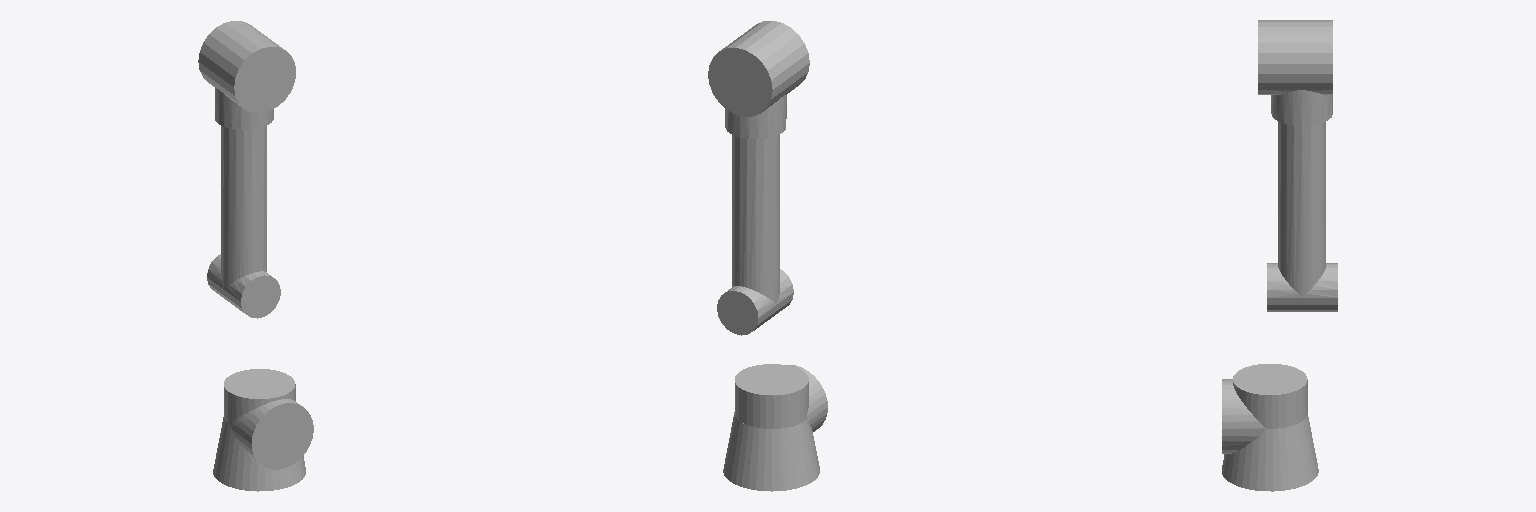
URDF robot description (GEN3_URDF_V12):
<robot name="GEN3_URDF_V12" version="1.0">
  <link name="world">
  </link>
  <joint name="Fix_world" type="fixed">
    <parent link="world" />
    <child link="Base_Link" />
  </joint>
  <link name="Base_Link">
    <inertial>
      <origin xyz="-0.000648 -0.000166 0.084487" rpy="0 0 0" />
      <mass value="1.697" />
      <inertia ixx="0.004622" ixy="9E-06" ixz="6E-05" iyy="0.004495" iyz="9E-06" izz="0.002079" />
    </inertial>
    <visual>
      <origin xyz="0 0 0" rpy="0 0 0" />
      <geometry>
        <mesh filename="kinova_gen3_7dof/base_link.STL" />
      </geometry>
      <material name="">
        <color rgba="0.75294 0.75294 0.75294 1" />
      </material>
    </visual>
    <collision>
      <origin xyz="0 0 0" rpy="0 0 0" />
      <geometry>
        <mesh filename="kinova_gen3_7dof/base_link.STL" />
      </geometry>
    </collision>
  </link>
  <link name="Shoulder_Link">
    <inertial>
      <origin xyz="-2.3E-05 -0.010364 -0.07336" rpy="0 0 0" />
      <mass value="1.3773" />
      <inertia ixx="0.00457" ixy="1E-06" ixz="2E-06" iyy="0.004831" iyz="0.000448" izz="0.001409" />
    </inertial>
    <visual>
      <origin xyz="0 0 0" rpy="0 0 0" />
      <geometry>
        <mesh filename="kinova_gen3_7dof/shoulder_link.STL" />
      </geometry>
      <material name="">
        <color rgba="0.75294 0.75294 0.75294 1" />
      </material>
    </visual>
    <collision>
      <origin xyz="0 0 0" rpy="0 0 0" />
      <geometry>
        <mesh filename="kinova_gen3_7dof/shoulder_link.STL" />
      </geometry>
    </collision>
  </link>
  <joint name="Actuator1" type="continuous">
    <origin xyz="0 0 0.15643" rpy="3.1416 2.7629E-18 -4.9305E-36" />
    <parent link="Base_Link" />
    <child link="Shoulder_Link" />
    <axis xyz="0 0 1" />
    <limit lower="-1000" upper="1000" effort="39" velocity="0.8727" />
  </joint>
  <link name="HalfArm1_Link">
    <inertial>
      <origin xyz="-4.4E-05 -0.09958 -0.013278" rpy="0 0 0" />
      <mass value="1.1636" />
      <inertia ixx="0.011088" ixy="5E-06" ixz="0" iyy="0.001072" iyz="-0.000691" izz="0.011255" />
    </inertial>
    <visual>
      <origin xyz="0 0 0" rpy="0 0 0" />
      <geometry>
        <mesh filename="kinova_gen3_7dof/half_arm_1_link.STL" />
      </geometry>
      <material name="">
        <color rgba="0.75294 0.75294 0.75294 1" />
      </material>
    </visual>
    <collision>
      <origin xyz="0 0 0" rpy="0 0 0" />
      <geometry>
        <mesh filename="kinova_gen3_7dof/half_arm_1_link.STL" />
      </geometry>
    </collision>
  </link>
  <joint name="Actuator2" type="revolute">
    <origin xyz="0 0.005375 -0.12838" rpy="1.5708 2.1343E-17 -1.1102E-16" />
    <parent link="Shoulder_Link" />
    <child link="HalfArm1_Link" />
    <axis xyz="0 0 1" />
    <limit lower="-2.41" upper="2.41" effort="39" velocity="0.8727" />
  </joint>
  <link name="HalfArm2_Link">
    <inertial>
      <origin xyz="-4.4E-05 -0.006641 -0.117892" rpy="0 0 0" />
      <mass value="1.1636" />
      <inertia ixx="0.010932" ixy="0" ixz="-7E-06" iyy="0.011127" iyz="0.000606" izz="0.001043" />
    </inertial>
    <visual>
      <origin xyz="0 0 0" rpy="0 0 0" />
      <geometry>
        <mesh filename="kinova_gen3_7dof/half_arm_2_link.STL" />
      </geometry>
      <material name="">
        <color rgba="0.75294 0.75294 0.75294 1" />
      </material>
    </visual>
    <collision>
      <origin xyz="0 0 0" rpy="0 0 0" />
      <geometry>
        <mesh filename="kinova_gen3_7dof/half_arm_2_link.STL" />
      </geometry>
    </collision>
  </link>
  <joint name="Actuator3" type="continuous">
    <origin xyz="0 -0.21038 -0.006375" rpy="-1.5708 1.2326E-32 -2.9122E-16" />
    <parent link="HalfArm1_Link" />
    <child link="HalfArm2_Link" />
    <axis xyz="0 0 1" />
    <limit lower="-1000" upper="1000" effort="39" velocity="0.8727" />
  </joint>
  <link name="ForeArm_Link">
    <inertial>
      <origin xyz="-1.8E-05 -0.075478 -0.015006" rpy="0 0 0" />
      <mass value="0.9302" />
      <inertia ixx="0.008147" ixy="-1E-06" ixz="0" iyy="0.000631" iyz="-0.0005" izz="0.008316" />
    </inertial>
    <visual>
      <origin xyz="0 0 0" rpy="0 0 0" />
      <geometry>
        <mesh filename="kinova_gen3_7dof/forearm_link.STL" />
      </geometry>
      <material name="">
        <color rgba="0.75294 0.75294 0.75294 1" />
      </material>
    </visual>
    <collision>
      <origin xyz="0 0 0" rpy="0 0 0" />
      <geometry>
        <mesh filename="kinova_gen3_7dof/forearm_link.STL" />
      </geometry>
    </collision>
  </link>
  <joint name="Actuator4" type="revolute">
    <origin xyz="0 0.006375 -0.21038" rpy="1.5708 -6.6954E-17 -1.6653E-16" />
    <parent link="HalfArm2_Link" />
    <child link="ForeArm_Link" />
    <axis xyz="0 0 1" />
    <limit lower="-2.66" upper="2.66" effort="39" velocity="0.8727" />
  </joint>
  <link name="SphericalWrist1_Link">
    <inertial>
      <origin xyz="1E-06 -0.009432 -0.063883" rpy="0 0 0" />
      <mass value="0.6781" />
      <inertia ixx="0.001596" ixy="0" ixz="0" iyy="0.001607" iyz="0.000256" izz="0.000399" />
    </inertial>
    <visual>
      <origin xyz="0 0 0" rpy="0 0 0" />
      <geometry>
        <mesh filename="kinova_gen3_7dof/spherical_wrist_1_link.STL" />
      </geometry>
      <material name="">
        <color rgba="0.75294 0.75294 0.75294 1" />
      </material>
    </visual>
    <collision>
      <origin xyz="0 0 0" rpy="0 0 0" />
      <geometry>
        <mesh filename="kinova_gen3_7dof/spherical_wrist_1_link.STL" />
      </geometry>
    </collision>
  </link>
  <joint name="Actuator5" type="continuous">
    <origin xyz="0 -0.20843 -0.006375" rpy="-1.5708 2.2204E-16 -6.373E-17" />
    <parent link="ForeArm_Link" />
    <child link="SphericalWrist1_Link" />
    <axis xyz="0 0 1" />
    <limit lower="-1000" upper="1000" effort="9" velocity="0.8727" />
  </joint>
  <link name="SphericalWrist2_Link">
    <inertial>
      <origin xyz="1E-06 -0.045483 -0.00965" rpy="0 0 0" />
      <mass value="0.6781" />
      <inertia ixx="0.001641" ixy="0" ixz="0" iyy="0.00041" iyz="-0.000278" izz="0.001641" />
    </inertial>
    <visual>
      <origin xyz="0 0 0" rpy="0 0 0" />
      <geometry>
        <mesh filename="kinova_gen3_7dof/spherical_wrist_2_link.STL" />
      </geometry>
      <material name="">
        <color rgba="0.75294 0.75294 0.75294 1" />
      </material>
    </visual>
    <collision>
      <origin xyz="0 0 0" rpy="0 0 0" />
      <geometry>
        <mesh filename="kinova_gen3_7dof/spherical_wrist_2_link.STL" />
      </geometry>
    </collision>
  </link>
  <joint name="Actuator6" type="revolute">
    <origin xyz="0 0.00017505 -0.10593" rpy="1.5708 9.2076E-28 -8.2157E-15" />
    <parent link="SphericalWrist1_Link" />
    <child link="SphericalWrist2_Link" />
    <axis xyz="0 0 1" />
    <limit lower="-2.23" upper="2.23" effort="9" velocity="0.8727" />
  </joint>
  <link name="Bracelet_Link">
    <inertial>
      <origin xyz="-0.000281 -0.011402 -0.029798" rpy="0 0 0" />
      <mass value="0.5006" />
      <inertia ixx="0.000587" ixy="3E-06" ixz="3E-06" iyy="0.000369" iyz="0.000118" izz="0.000609" />
    </inertial>
    <visual>
      <origin xyz="0 0 0" rpy="0 0 0" />
      <geometry>
        <mesh filename="kinova_gen3_7dof/bracelet_no_vision_link.STL" />
      </geometry>
      <material name="">
        <color rgba="0.75294 0.75294 0.75294 1" />
      </material>
    </visual>
    <collision>
      <origin xyz="0 0 0" rpy="0 0 0" />
      <geometry>
        <mesh filename="kinova_gen3_7dof/bracelet_no_vision_link.STL" />
      </geometry>
    </collision>
  </link>
  <joint name="Actuator7" type="continuous">
    <origin xyz="0 -0.10593 -0.00017505" rpy="-1.5708 -5.5511E-17 9.6396E-17" />
    <parent link="SphericalWrist2_Link" />
    <child link="Bracelet_Link" />
    <axis xyz="0 0 1" />
    <limit lower="-1000" upper="1000" effort="9" velocity="0.8727" />
  </joint>
  <link name="EndEffector_Link" />
  <joint name="EndEffector" type="fixed">
    <origin xyz="0 0 -0.0615250000000001" rpy="3.14159265358979 1.09937075168372E-32 0" />
    <parent link="Bracelet_Link" />
    <child link="EndEffector_Link" />
    <axis xyz="0 0 0" />
  </joint>
  <klampt world_frame="world" defaultAccMax="4">
    <noselfcollision group1="Base_Link Shoulder_Link" group2="HalfArm1_Link HalfArm2_Link ForeArm_Link SphericalWrist1_Link" />
    <noselfcollision group1="HalfArm1_Link HalfArm2_Link" group2="ForeArm_Link SphericalWrist1_Link" />
    <noselfcollision group1="HalfArm2_Link ForeArm_Link" group2="SphericalWrist1_Link SphericalWrist2_Link Bracelet_Link" />
    <noselfcollision group1="SphericalWrist1_Link" group2="Bracelet_Link" />

    <mount link="EndEffector_Link" file = "robotiq_85.rob" transform = "1 0 0   0 1 0  0 0 1  0 0 0" prefix="gripper"/>
    <noselfcollision group1="ForeArm_Link SphericalWrist1_Link SphericalWrist2_Link Bracelet_Link" group2="gripper:Link_0 gripper:Link_1 gripper:Link_2 gripper:Link_3 gripper:Link_4 gripper:Link_5 gripper:Link_6 gripper:Link_7 gripper:Link_8" />
    <noselfcollision group1="HalfArm2_Link" group2="gripper:Link_0" />

    <link name="Shoulder_Link" servoP="1400" servoI="0" servoD="6" dryFriction="0.5" viscousFriction="8" />
    <link name="HalfArm1_Link" servoP="1600" servoI="0" servoD="8" dryFriction="0.5" viscousFriction="10" />
    <link name="HalfArm2_Link" servoP="1000" servoI="0" servoD="3" dryFriction="0" viscousFriction="6" />
    <link name="ForeArm_Link" servoP="800" servoI="0" servoD="5" dryFriction="0" viscousFriction="4" />
    <link name="SphericalWrist1_Link" servoP="200" servoI="0" servoD=".5" dryFriction="0" viscousFriction="3" />
    <link name="SphericalWrist2_Link" servoP="50" servoI="0" servoD=".2" dryFriction="0" viscousFriction="2" />
    <link name="Bracelet_Link" servoP="20" servoI="0" servoD=".1" dryFriction="0" viscousFriction="1" />
  </klampt>
</robot>

--- What the picture shows (computed from the rendered views, not written in the file) ---
The picture shows the robot from 3 angles, left to right: view 1: azimuth 30°, elevation 25°; view 2: azimuth 150°, elevation 25°; view 3: azimuth 270°, elevation 25°; orthographic projection.
Robot: GEN3_URDF_V12 — 10 links, 9 joints (3 revolute, 4 continuous, 2 fixed); root link world; default pose: all joints at 0.
Links seen in each view (by area): view 1: ForeArm_Link, Shoulder_Link, Base_Link; view 2: ForeArm_Link, Base_Link, Shoulder_Link; view 3: ForeArm_Link, Shoulder_Link, Base_Link.
Link boxes in pixels (x1,y1,x2,y2): ForeArm_Link: [198, 21, 295, 318]; Shoulder_Link: [224, 369, 313, 469]; Base_Link: [213, 417, 305, 491]; ForeArm_Link: [708, 21, 809, 335]; Base_Link: [723, 412, 819, 491]; Shoulder_Link: [735, 364, 827, 431]; ForeArm_Link: [1258, 20, 1337, 311]; Shoulder_Link: [1222, 364, 1307, 453]; Base_Link: [1222, 414, 1318, 491].
Size in the robot's own frame: 0.1507 by 0.181 by 0.763 metres.
3 mesh visuals loaded from 8 distinct referenced files (3 binary STL); not drawn: 5 (reference not matched to a file when rendering).